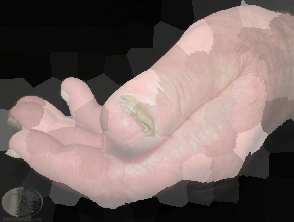Nail_psoriasis: (112, 82, 170, 144), (3, 145, 26, 164), (5, 114, 26, 134), (56, 85, 75, 106)
